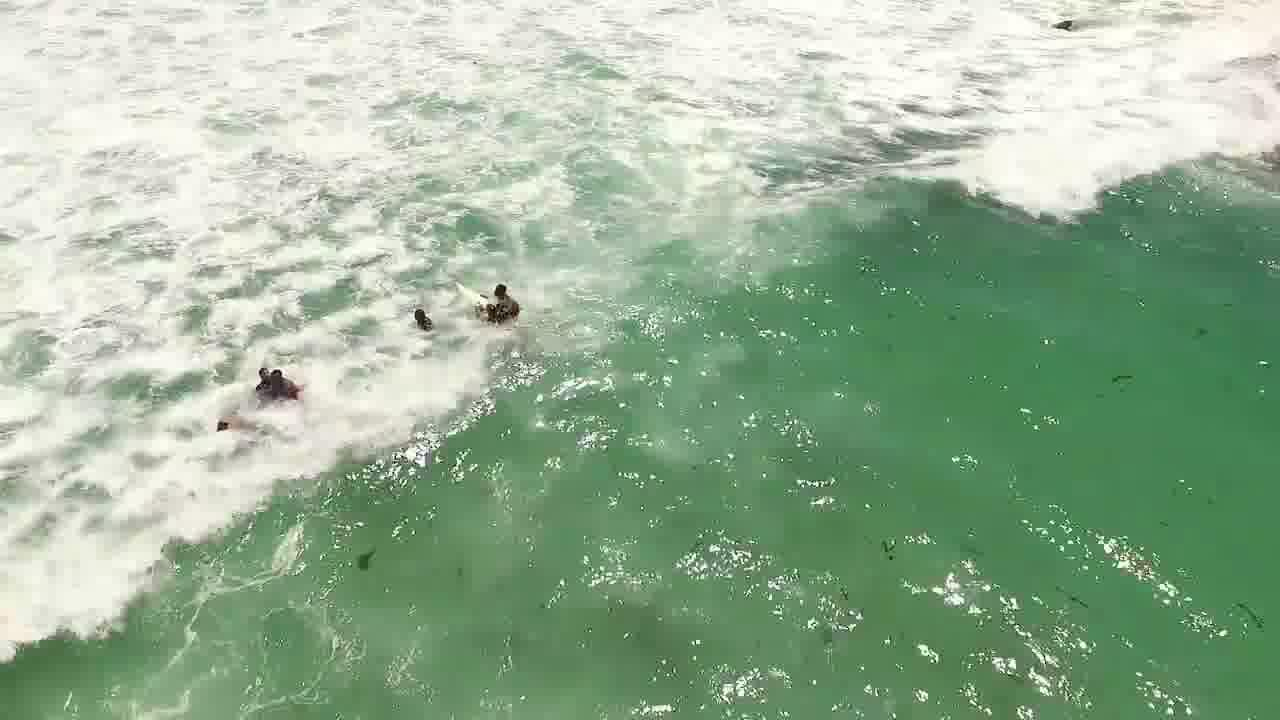swimmer: (479, 267, 523, 333), (400, 292, 445, 352), (270, 353, 304, 414), (208, 413, 244, 444), (251, 354, 266, 384)
